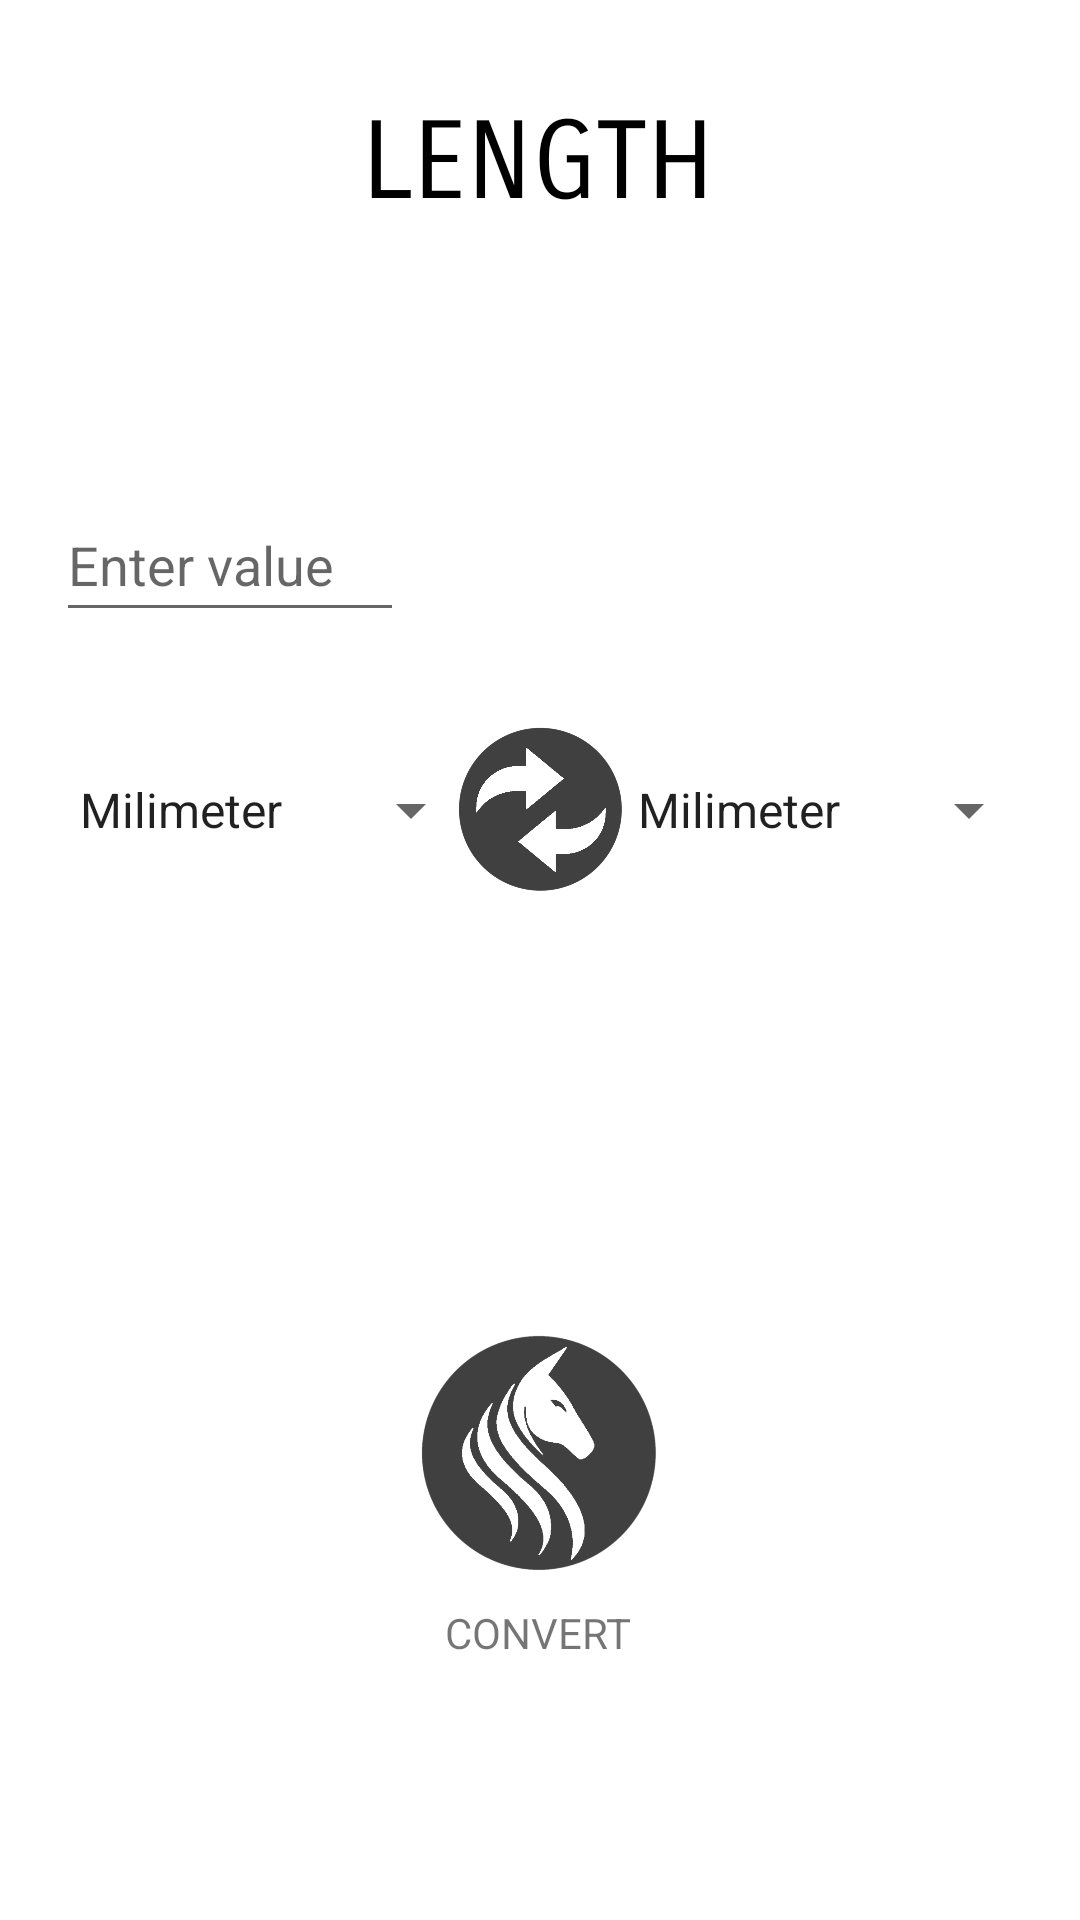

Where icons sit on this 1080w x 1920h app screen, as (x1, y1, x2, y2):
swap: (459, 728, 622, 891)
unicon: (422, 1336, 656, 1570)
